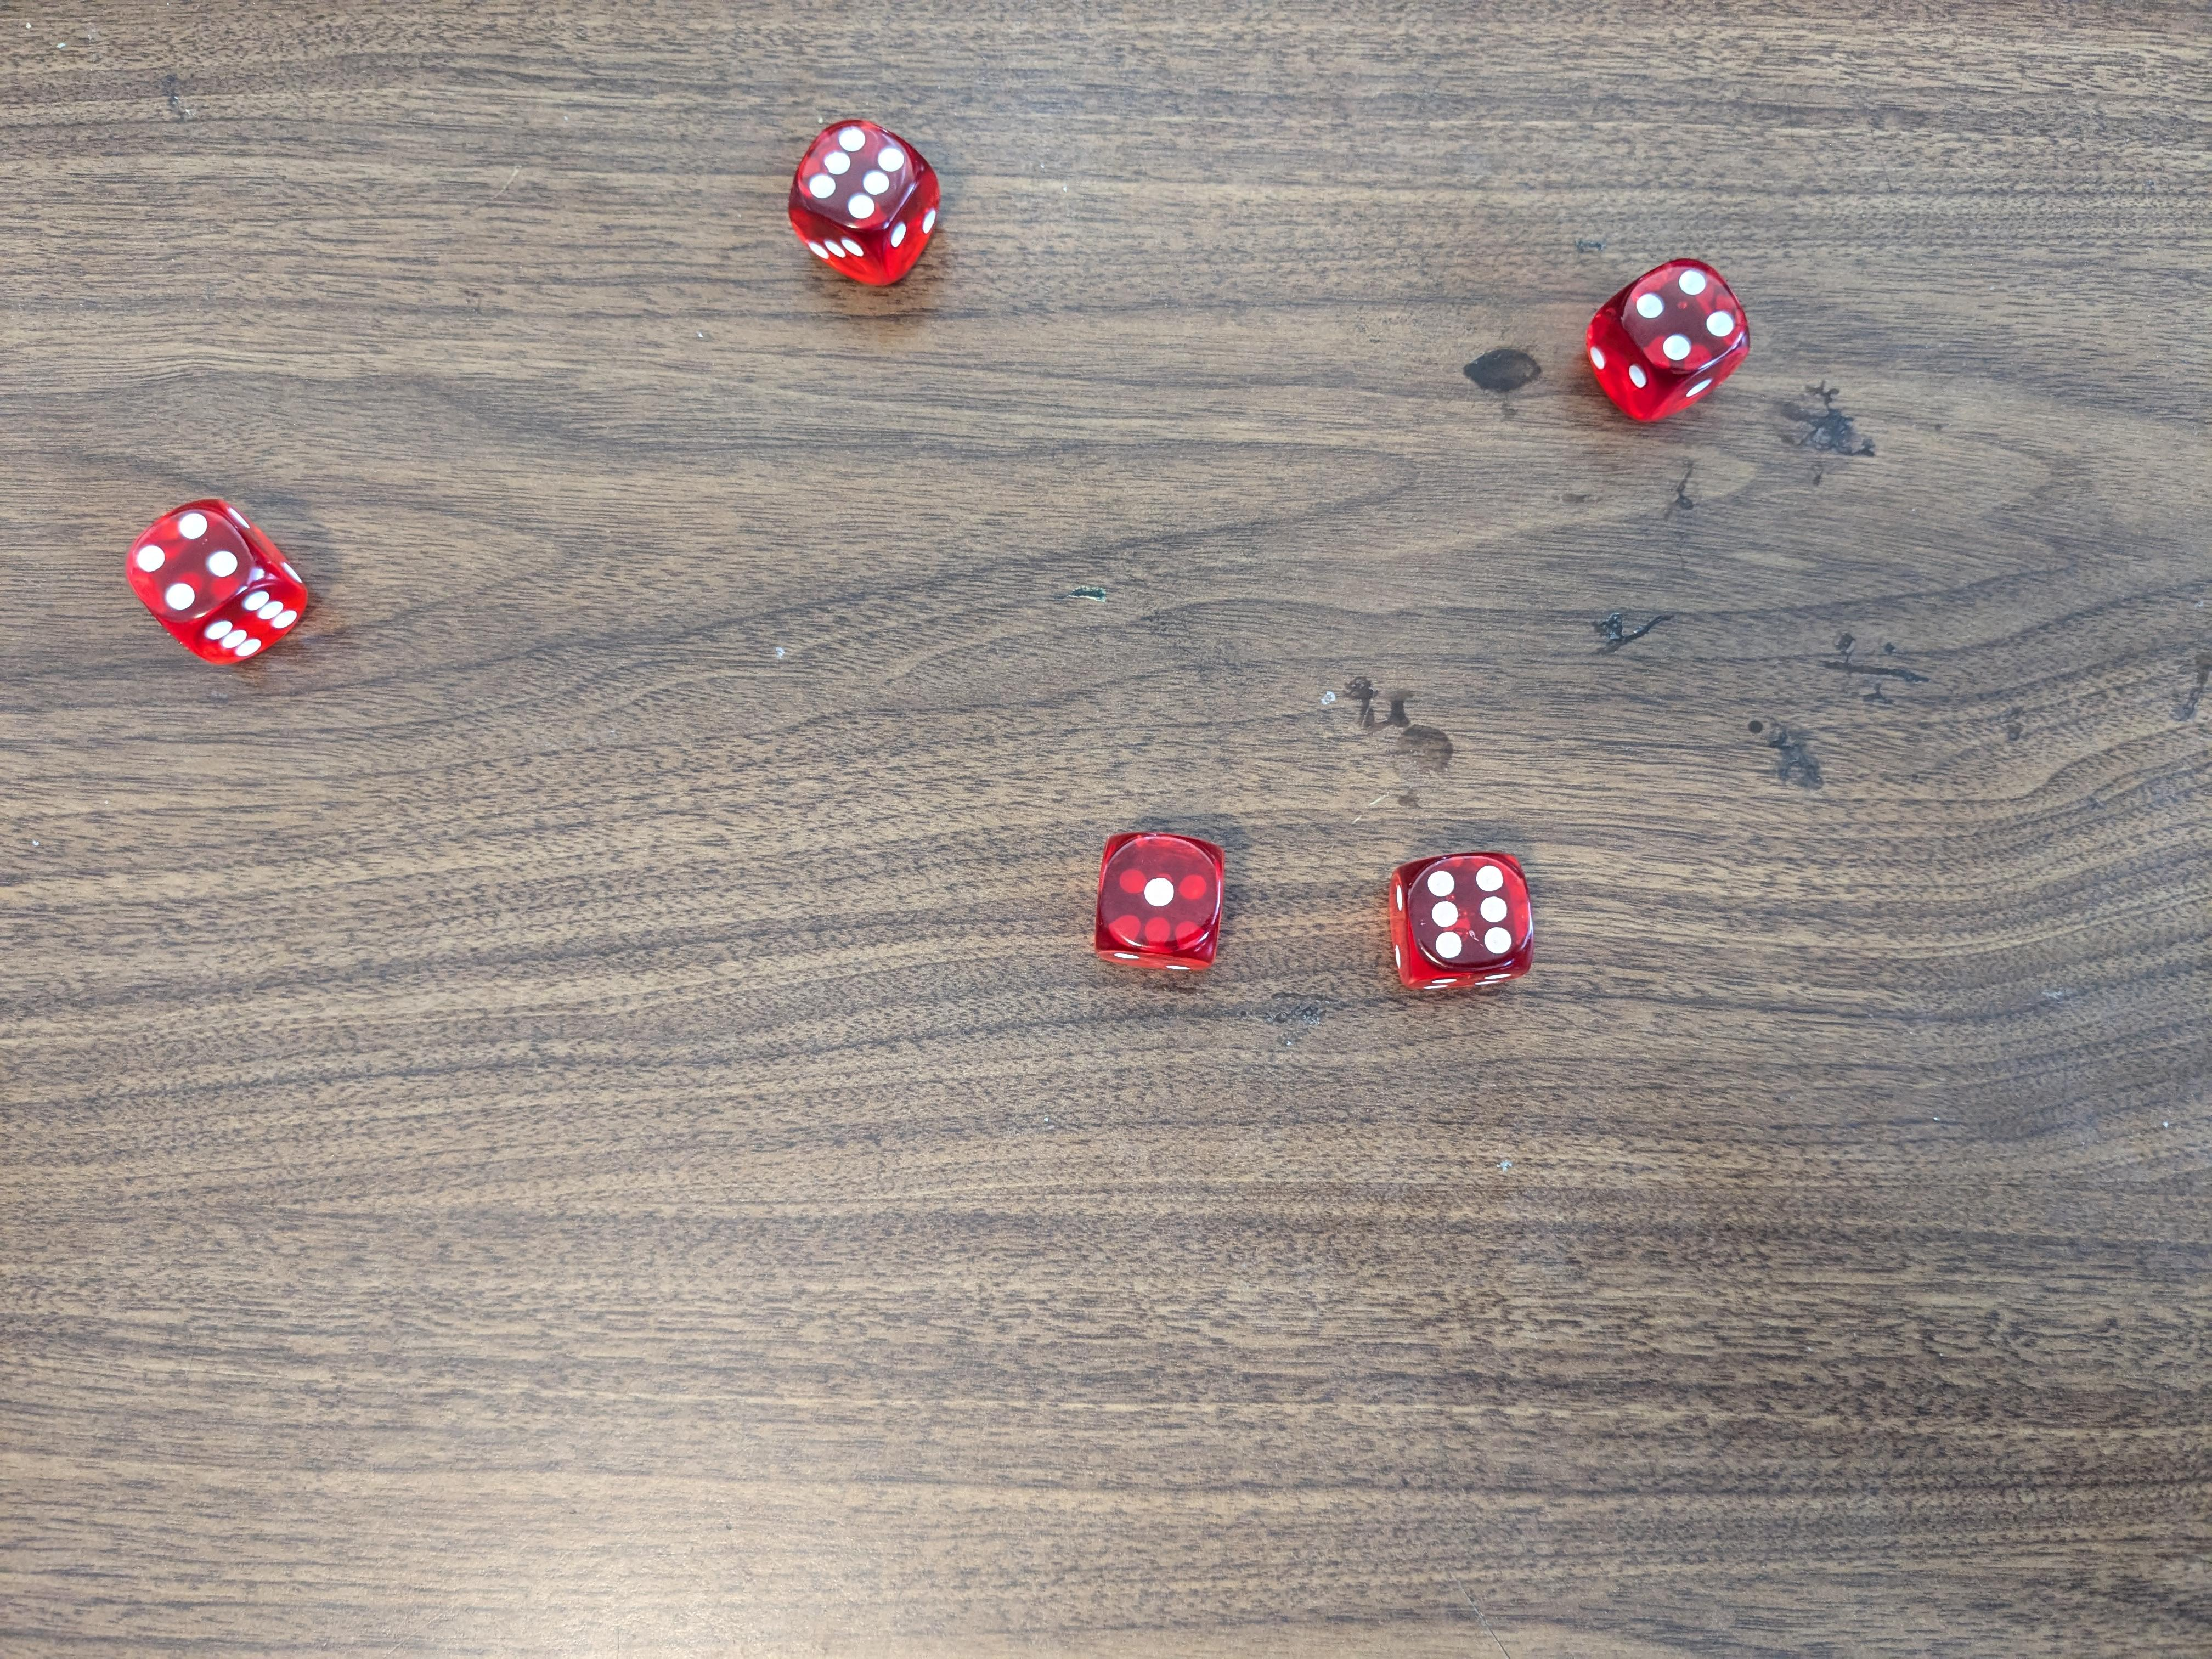four: (125, 493, 315, 664), (1580, 249, 1752, 422)
one: (1090, 824, 1230, 978)
six: (792, 110, 948, 291), (1383, 843, 1538, 993)
